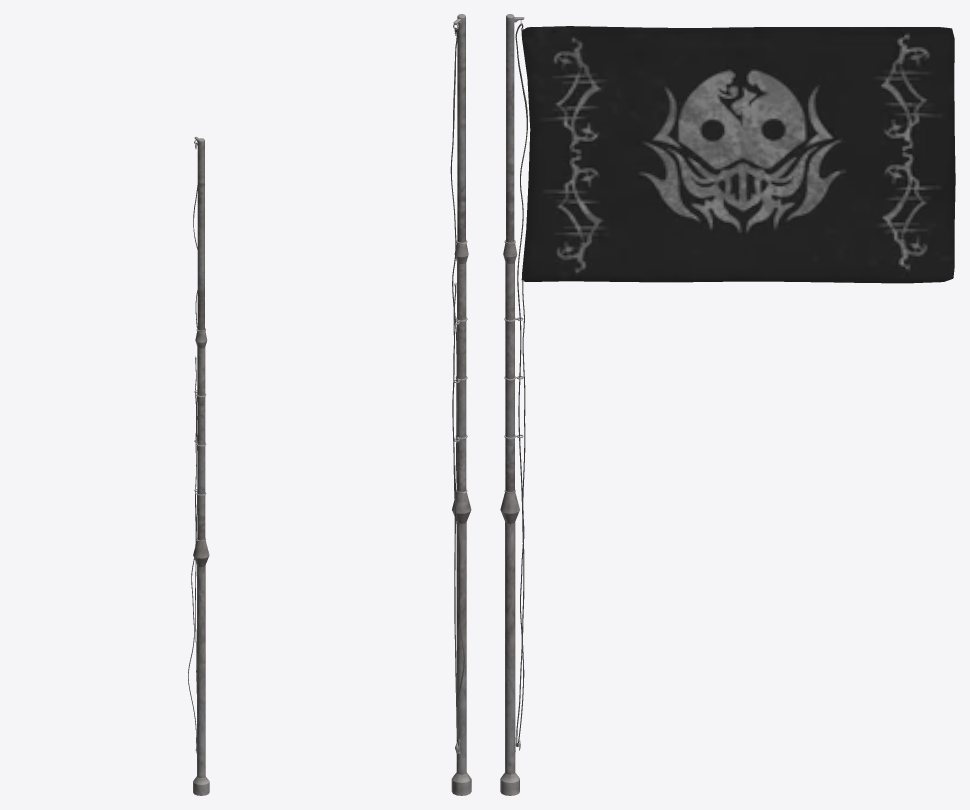
File: SK_GroupFlag_00_0d1df2.glb
3 views of the same model, side by side, from view 1: azimuth 30°, elevation 25°; view 2: azimuth 150°, elevation 25°; view 3: azimuth 270°, elevation 25° (orthographic). The views are drawn at different scales.
Size of the model in its own units: 0.3224 by 13.24 by 7.03.
1 material, 1 textured.
